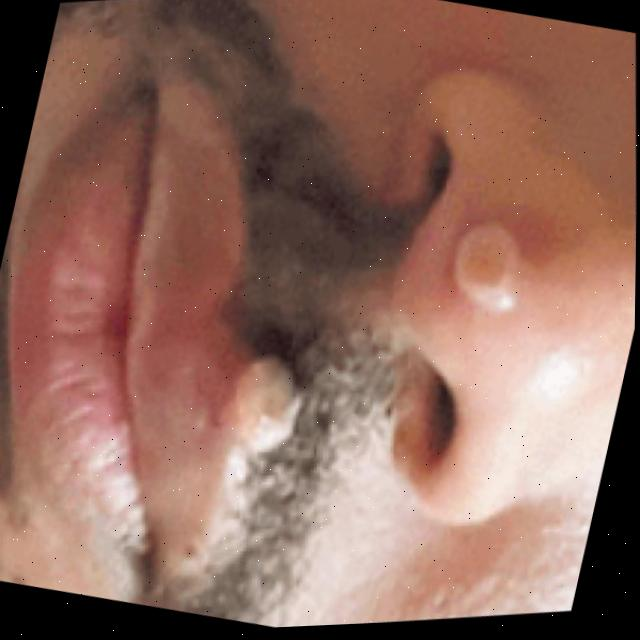Eczema: (223, 346, 316, 468), (451, 206, 534, 309)
